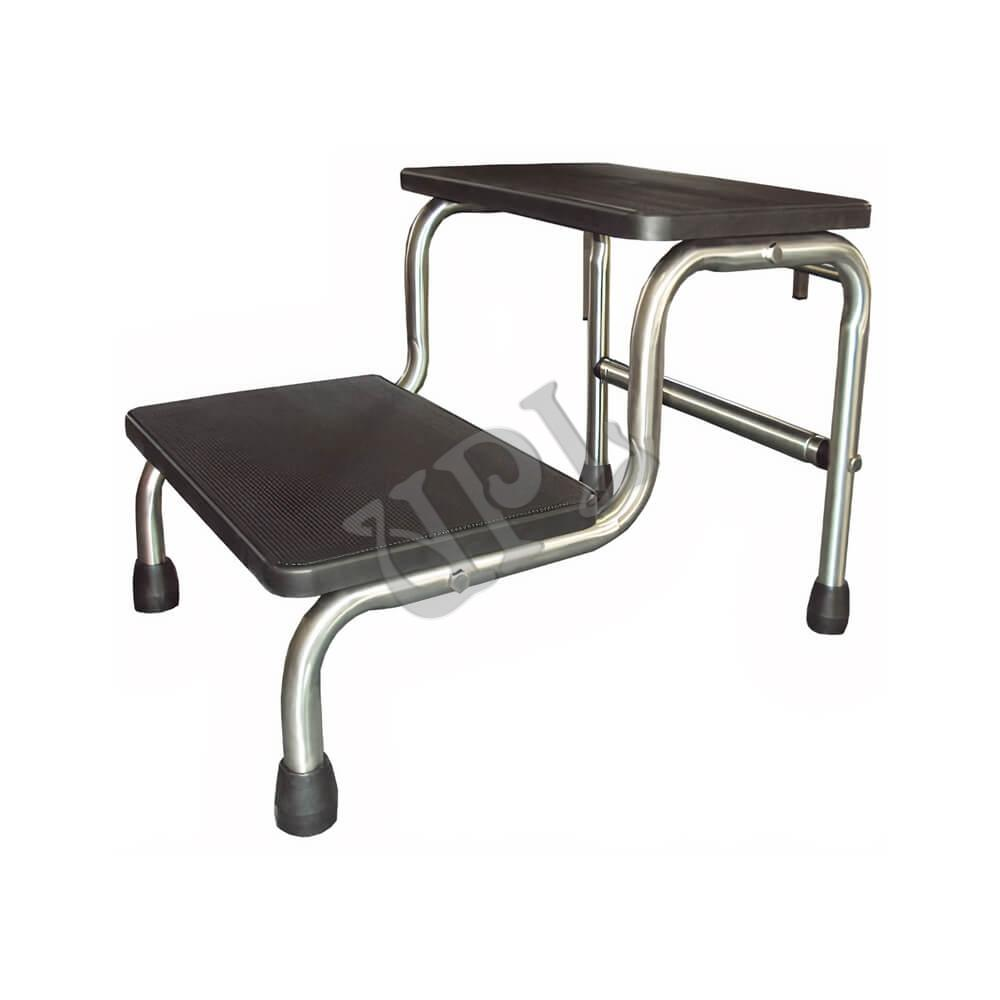stool: (101, 138, 878, 839)
